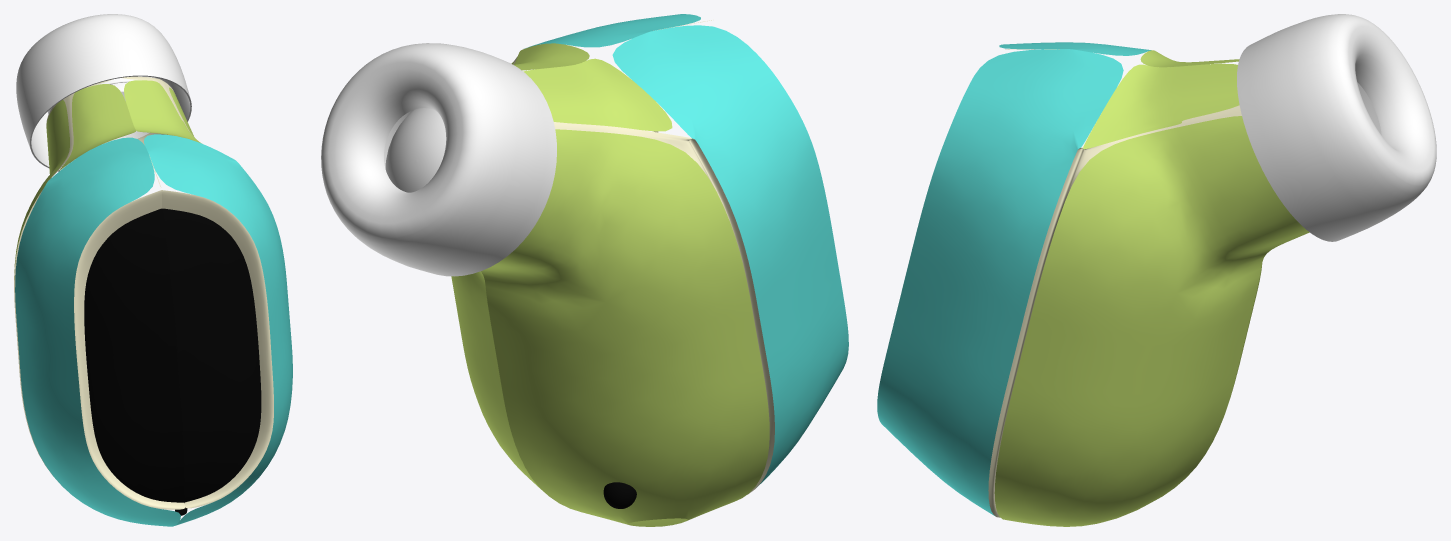
The picture shows the model from 3 angles, left to right: view 1: azimuth 30°, elevation 25°; view 2: azimuth 150°, elevation 25°; view 3: azimuth 270°, elevation 25°; orthographic projection. The views are drawn at different scales.
Visible parts, largest first — view 1: Back_Utility, MainBase-Plastic_Green_-_Glossy_1, Sillicone-ear, MainBase-Gold_1, MainBase-Plastic_Green_-_Glossy_2, MainBase-Gold; view 2: MainBase-Plastic_Green_-_Glossy_2, MainBase-Plastic_Green_-_Glossy_1, Sillicone-ear, speaker-cover, MainBase-Gold, Mic; view 3: MainBase-Plastic_Green_-_Glossy_2, MainBase-Plastic_Green_-_Glossy_1, Sillicone-ear, MainBase-Gold.
Part boxes in pixels (bbox=[...]): Back_Utility: bbox=[84, 208, 261, 502]; MainBase-Plastic_Green_-_Glossy_1: bbox=[15, 134, 292, 526]; Sillicone-ear: bbox=[16, 14, 191, 171]; MainBase-Gold_1: bbox=[74, 190, 273, 509]; MainBase-Plastic_Green_-_Glossy_2: bbox=[14, 80, 201, 279]; MainBase-Gold: bbox=[14, 76, 193, 475]; MainBase-Plastic_Green_-_Glossy_2: bbox=[451, 43, 769, 524]; MainBase-Plastic_Green_-_Glossy_1: bbox=[524, 14, 848, 487]; Sillicone-ear: bbox=[321, 43, 556, 276]; speaker-cover: bbox=[385, 108, 446, 192]; MainBase-Gold: bbox=[513, 19, 774, 494]; Mic: bbox=[603, 482, 636, 508]; MainBase-Plastic_Green_-_Glossy_2: bbox=[994, 50, 1309, 526]; MainBase-Plastic_Green_-_Glossy_1: bbox=[877, 42, 1151, 516]; Sillicone-ear: bbox=[1237, 14, 1436, 241]; MainBase-Gold: bbox=[988, 49, 1241, 517].
Bounding box in the file's own units: 1.99 × 3.23 × 3.13.
